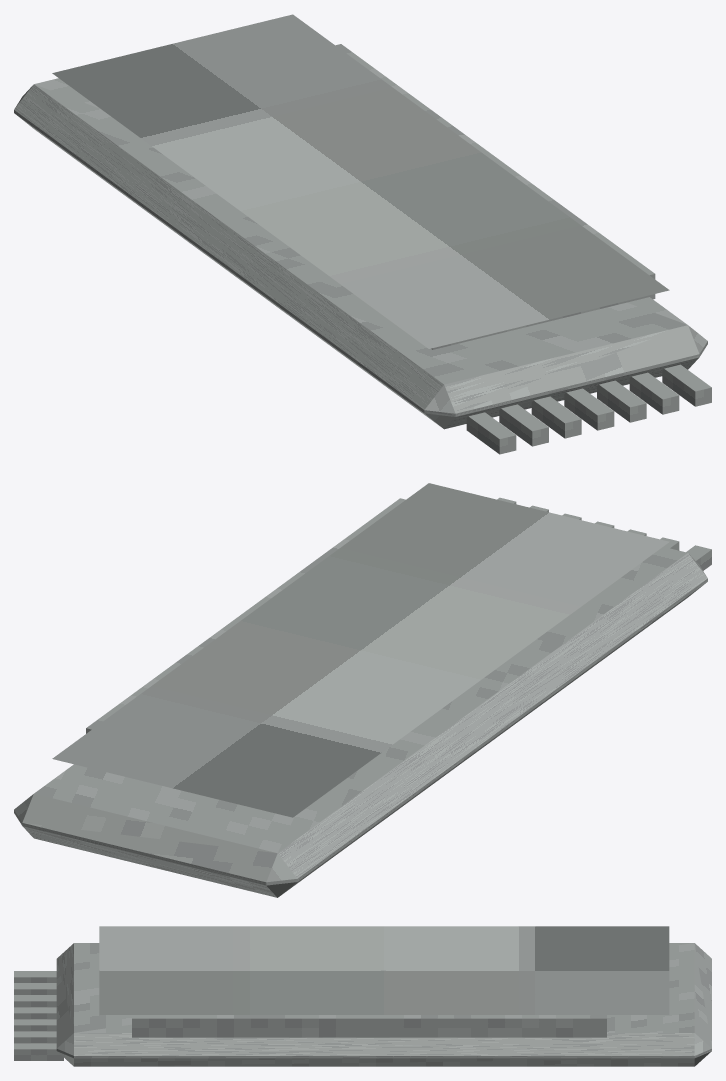
The model's file is patchwork_scarf_loose.glb.
3 renders of one model, top to bottom at view 1: azimuth 30°, elevation 25°; view 2: azimuth 150°, elevation 25°; view 3: azimuth 270°, elevation 25°, orthographic. The views are drawn at different scales.
Visible parts, largest first — view 1: block_stitched cloth panels, block_loose folded scarf, block_fringe (×7), block_overlapping fold; view 2: block_stitched cloth panels, block_loose folded scarf, block_overlapping fold; view 3: block_stitched cloth panels, block_loose folded scarf, block_overlapping fold, block_fringe (×7).
Boxes of the visible parts, x1,y1,x2,y2 form: block_stitched cloth panels: [52, 14, 669, 348]; block_loose folded scarf: [14, 78, 707, 429]; block_fringe (×7): [466, 364, 711, 454]; block_overlapping fold: [335, 44, 655, 349]; block_stitched cloth panels: [52, 483, 669, 817]; block_loose folded scarf: [14, 547, 707, 897]; block_overlapping fold: [86, 498, 405, 733]; block_stitched cloth panels: [99, 926, 669, 1014]; block_loose folded scarf: [56, 943, 711, 1066]; block_overlapping fold: [132, 1015, 606, 1037]; block_fringe (×7): [14, 971, 63, 1060].
Size of the model in its own units: 0.0743 by 0.0169 by 0.2095.
Materials: 1 (1 with a texture image).
